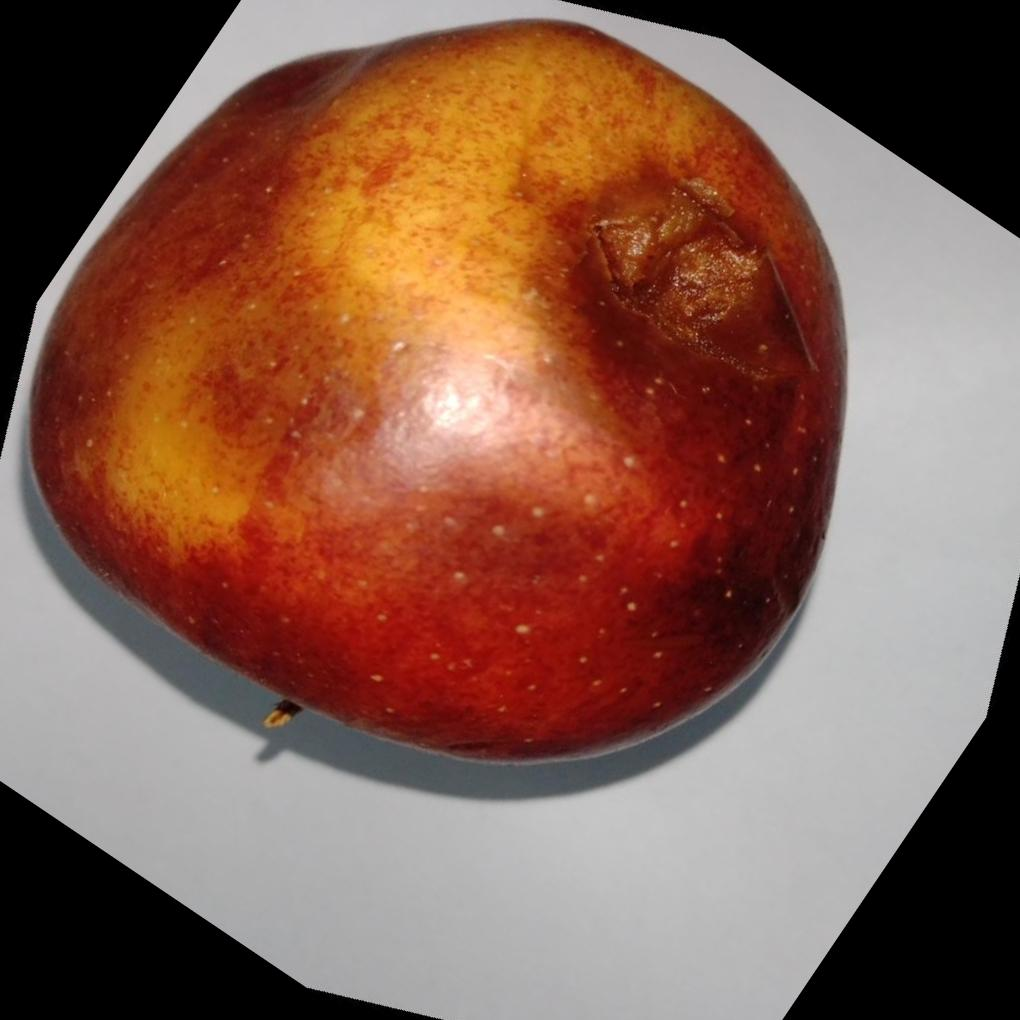FreshOrange: (22, 15, 847, 764)
